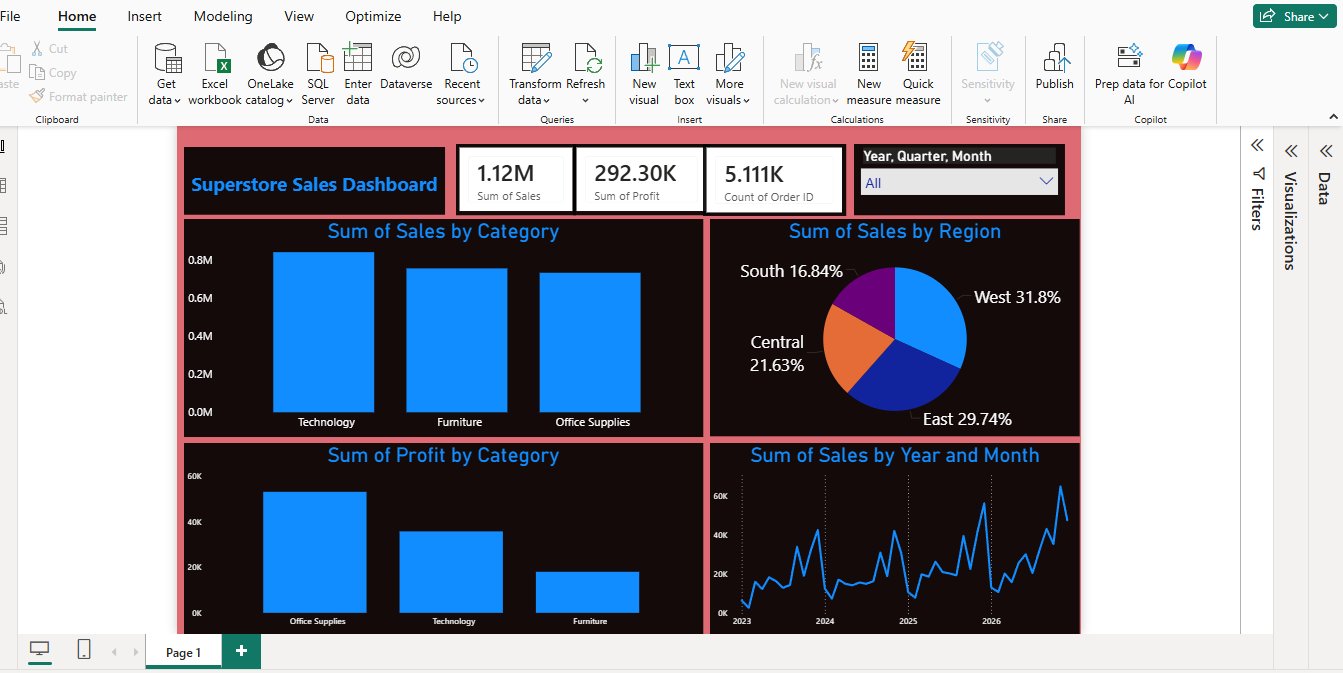

What the dashboard file says about the page in this screenshot:
{"tool":"powerbi","page":{"name":"Page 1","canvas":[1280,720],"ordinal":0},"visuals":[{"type":"columnChart","fields":{"Y":["Sum(samplesuperstore (2).Sales)"],"Category":["samplesuperstore (2).Category"]},"box":[9.9,131.8,735.6,309],"z":0},{"type":"pieChart","fields":{"Category":["samplesuperstore (2).Region"],"Y":["Sum(samplesuperstore (2).Sales)"]},"box":[755.4,131.8,524.4,307.6],"z":1000},{"type":"lineChart","fields":{"Y":["Sum(samplesuperstore.Sales)"],"Category":["samplesuperstore.Order Date.Variation.Date Hierarchy.Year","samplesuperstore.Order Date.Variation.Date Hierarchy.Month"]},"box":[755.4,449.3,524.4,270.7],"z":2000},{"type":"textbox","box":[0,29.8,379.8,73.7],"z":3000},{"type":"cardVisual","fields":{"Data":["Sum(samplesuperstore.Sales)"]},"box":[395.4,22.7,170.1,103.5],"z":4000},{"type":"cardVisual","fields":{"Data":["Sum(samplesuperstore (2).Profit)"]},"box":[561.3,25.5,194.2,100.6],"z":5000},{"type":"cardVisual","fields":{"Data":["Count(samplesuperstore (2).Order ID)"]},"box":[745.5,25.5,202.7,102],"z":6000},{"type":"slicer","fields":{"Values":["samplesuperstore (2).Order Date.Variation.Date Hierarchy.Year","samplesuperstore (2).Order Date.Variation.Date Hierarchy.Quarter","samplesuperstore (2).Order Date.Variation.Date Hierarchy.Month"]},"box":[948.2,29.8,299.1,107.7],"z":7000},{"type":"columnChart","fields":{"Y":["Sum(samplesuperstore.Profit)"],"Category":["samplesuperstore.Category"]},"box":[9.9,449.3,735.6,270.7],"z":8000}]}

Visuals, with their boxes on the page's 1280x720 design canvas (x1, y1, x2, y2). These are canvas units, not pixel positions in the 1343x673 screenshot, which may show the page scaled, cropped or inside an application window:
columnChart - Sum(samplesuperstore (2).Sales) x samplesuperstore (2).Category: detection(10, 132, 746, 441)
pieChart - samplesuperstore (2).Region x Sum(samplesuperstore (2).Sales): detection(755, 132, 1280, 439)
lineChart - Sum(samplesuperstore.Sales) x samplesuperstore.Order Date.Variation.Date Hierarchy.Year: detection(755, 449, 1280, 720)
textbox: detection(0, 30, 380, 104)
cardVisual - Sum(samplesuperstore.Sales): detection(395, 23, 566, 126)
cardVisual - Sum(samplesuperstore (2).Profit): detection(561, 26, 756, 126)
cardVisual - Count(samplesuperstore (2).Order ID): detection(746, 26, 948, 128)
slicer - samplesuperstore (2).Order Date.Variation.Date Hierarchy.Year x samplesuperstore (2).Order Date.Variation.Date Hierarchy.Quarter: detection(948, 30, 1247, 138)
columnChart - Sum(samplesuperstore.Profit) x samplesuperstore.Category: detection(10, 449, 746, 720)
